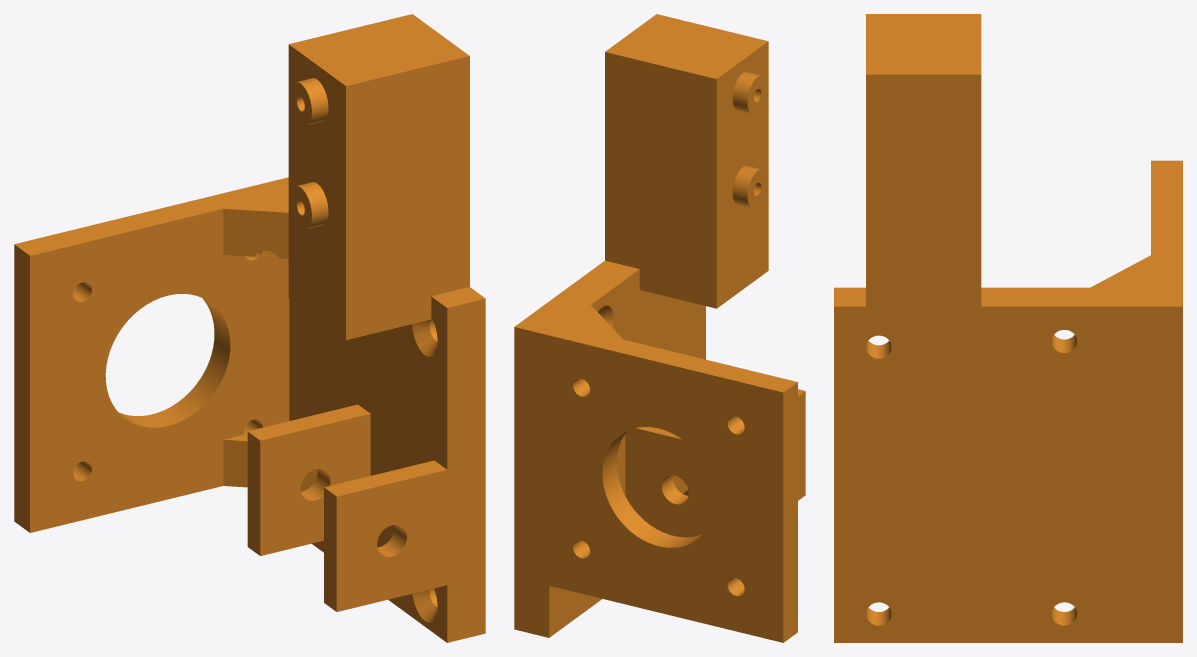
Rendered from eixo_bloco_motor.glb.
3 renders of one model, left to right at view 1: azimuth 30°, elevation 25°; view 2: azimuth 150°, elevation 25°; view 3: azimuth 270°, elevation 25°, orthographic. The views are drawn at different scales.
Visible parts, largest first — view 1: eixo_bloco_motor; view 2: eixo_bloco_motor; view 3: eixo_bloco_motor.
Part boxes in pixels (left/top/right/bottom): eixo_bloco_motor: left=14, top=14, right=485, bottom=642; eixo_bloco_motor: left=514, top=14, right=805, bottom=642; eixo_bloco_motor: left=834, top=14, right=1182, bottom=642.
Size of the model in its own units: 54 by 98 by 54.5.
